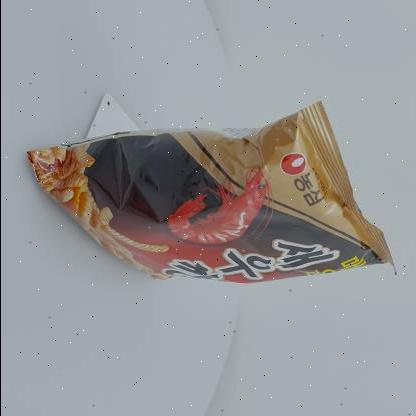Others: (23, 99, 401, 303)
